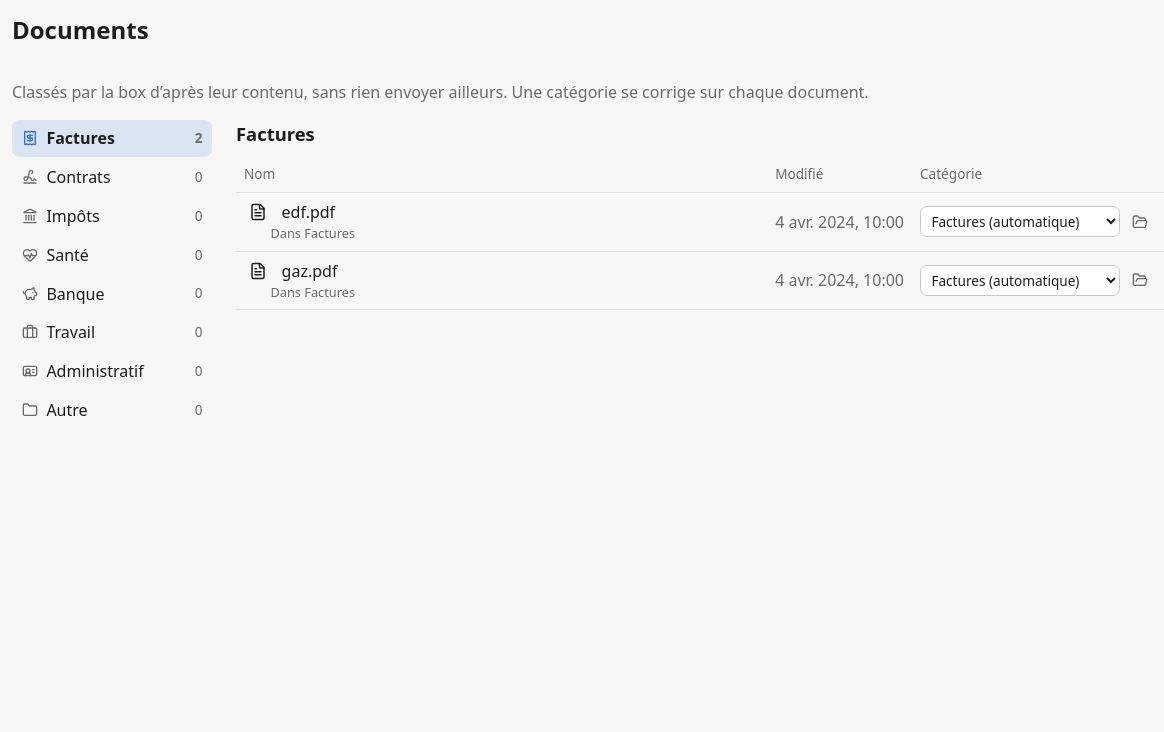
Test: Documents › corrects a category, and undoes it
Select "Contrats" in the dropdown named "Catégorie de edf.pdf" at (1020, 222), box [920,206,1120,237]
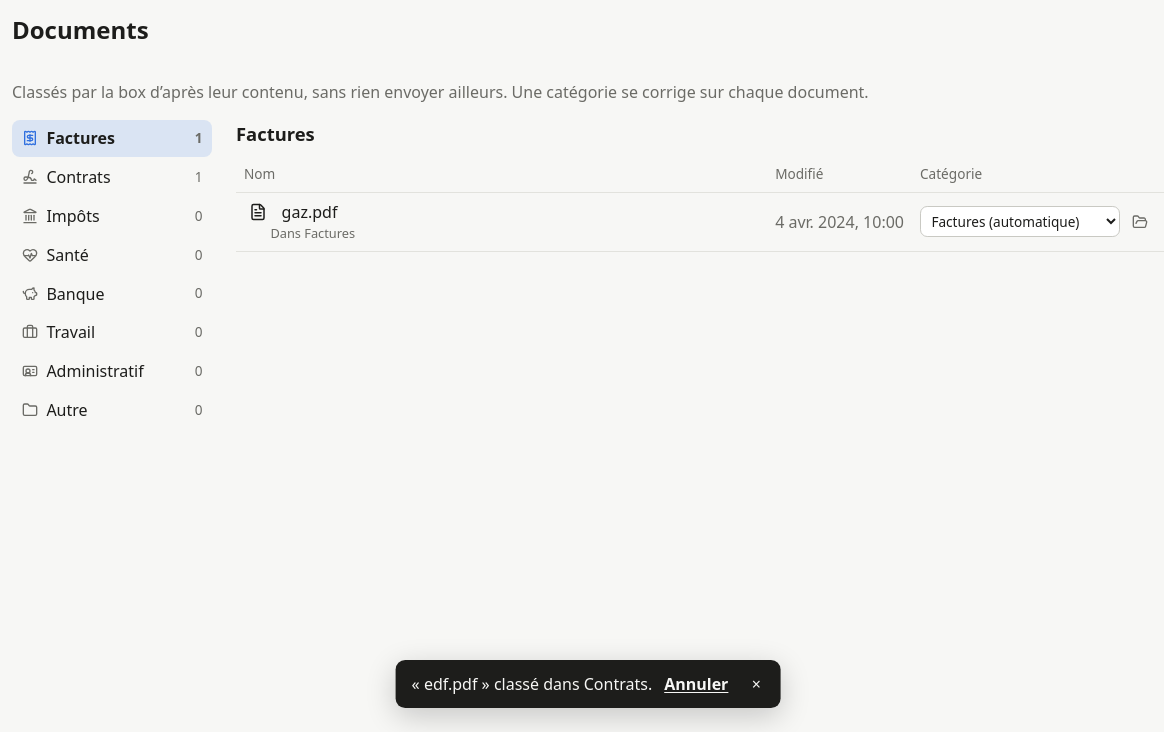
Expected: the message shows "« edf.pdf » classé dans Contrats.", [396,660,780,708]
Expected: the link "Contrats 1" is shown, [22,166,202,188]
Note: Annuler gives the automatic category back (null), and the list comes back.
Click the button "Annuler".
click(696, 684)  # box [664,672,728,696]
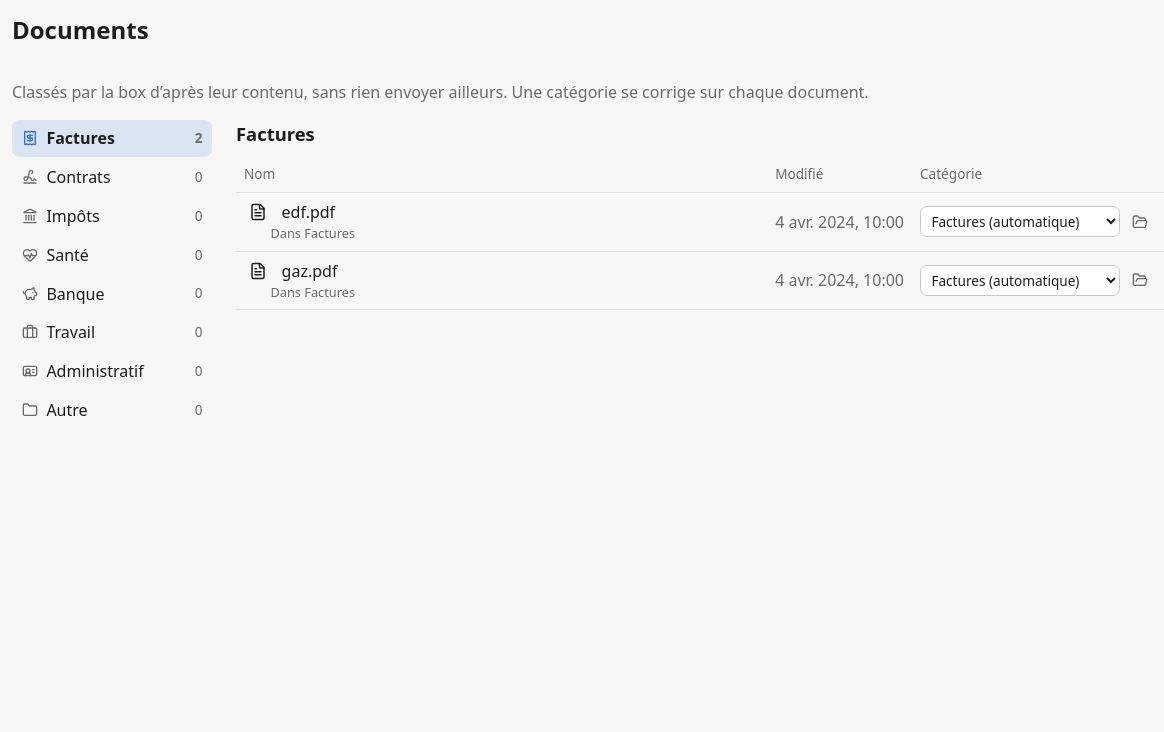
Expected: the button "edf.pdf" is shown, [282,200,335,224]
